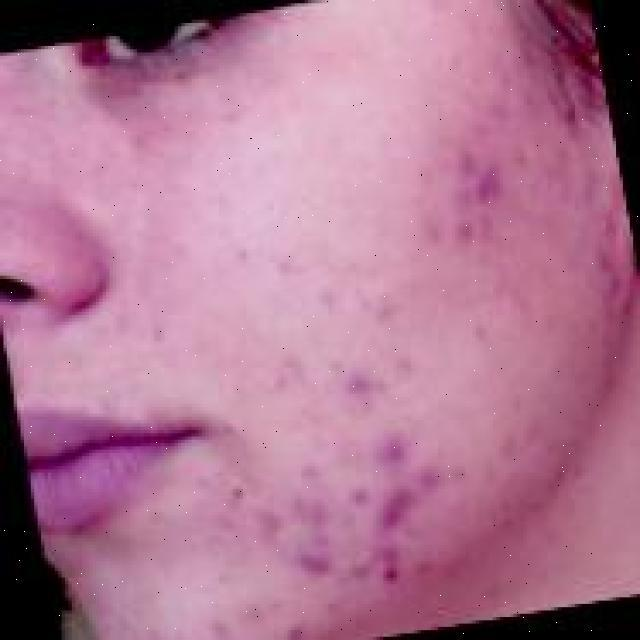Acne: (231, 131, 534, 599)
